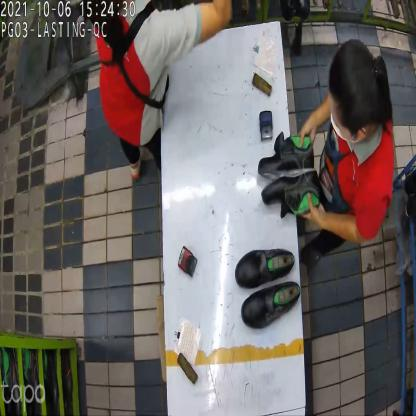shoes: (236, 247, 302, 326), (259, 138, 323, 218)
stamp: (256, 105, 276, 144), (177, 244, 198, 278)
